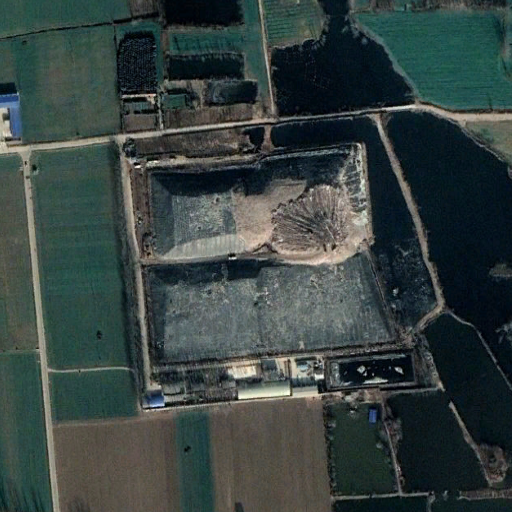lf: (150, 134, 399, 365)
